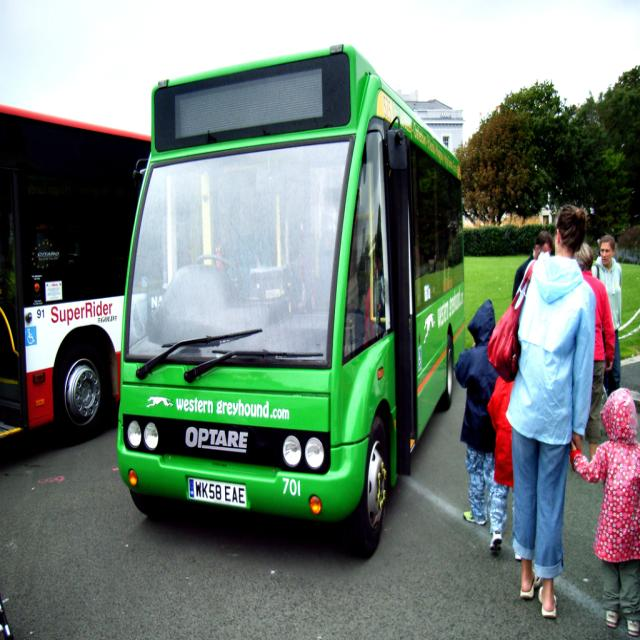Buses: (118, 47, 468, 554), (2, 93, 128, 460)
Pedestrians: (515, 206, 594, 624)
